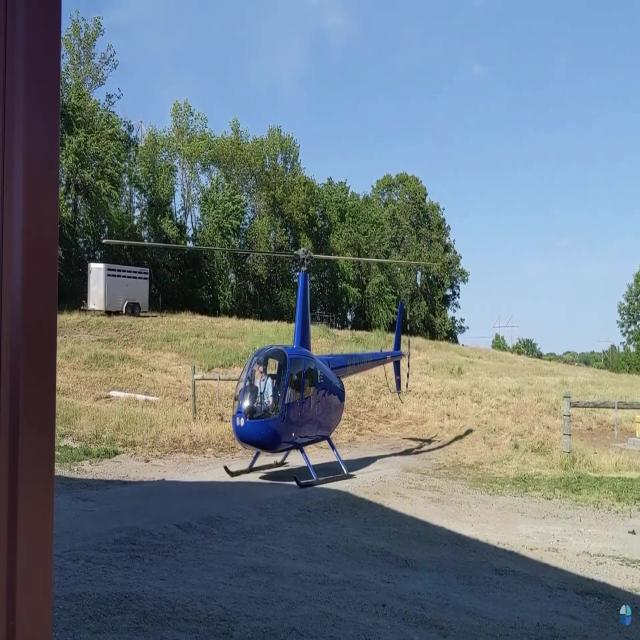CIV_HELO: (222, 245, 404, 489)
